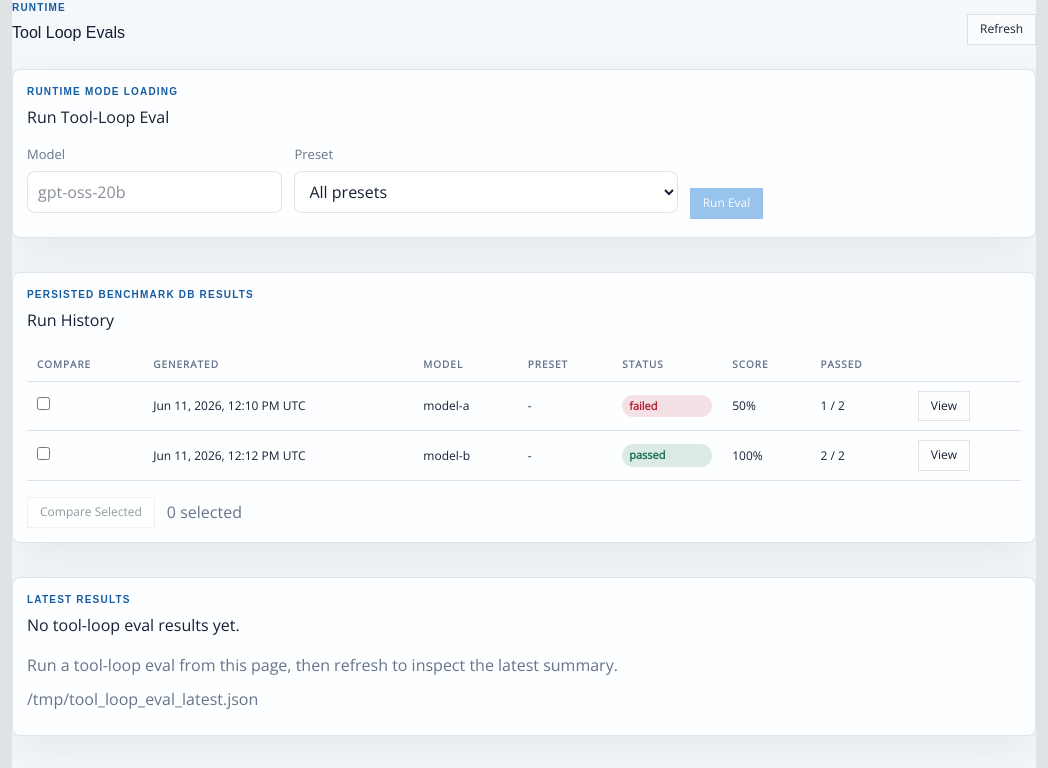
Test: compares selected persisted runs
What coordinates should you click on to do the following:
click the checkbox named "Compare model-a"
I would click on:
 (44, 403)
Its box is [37,397,50,410].
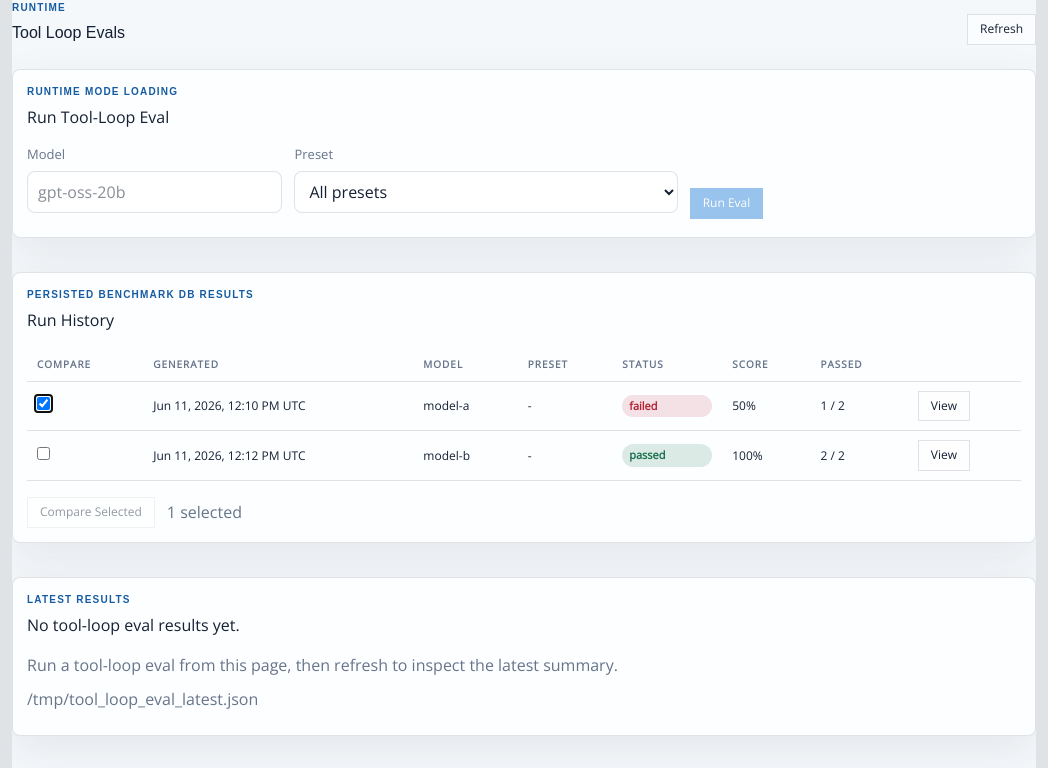
What coordinates should you click on to do the following:
click the checkbox named "Compare model-b"
I would click on:
 (44, 453)
Its box is [37,447,50,460].
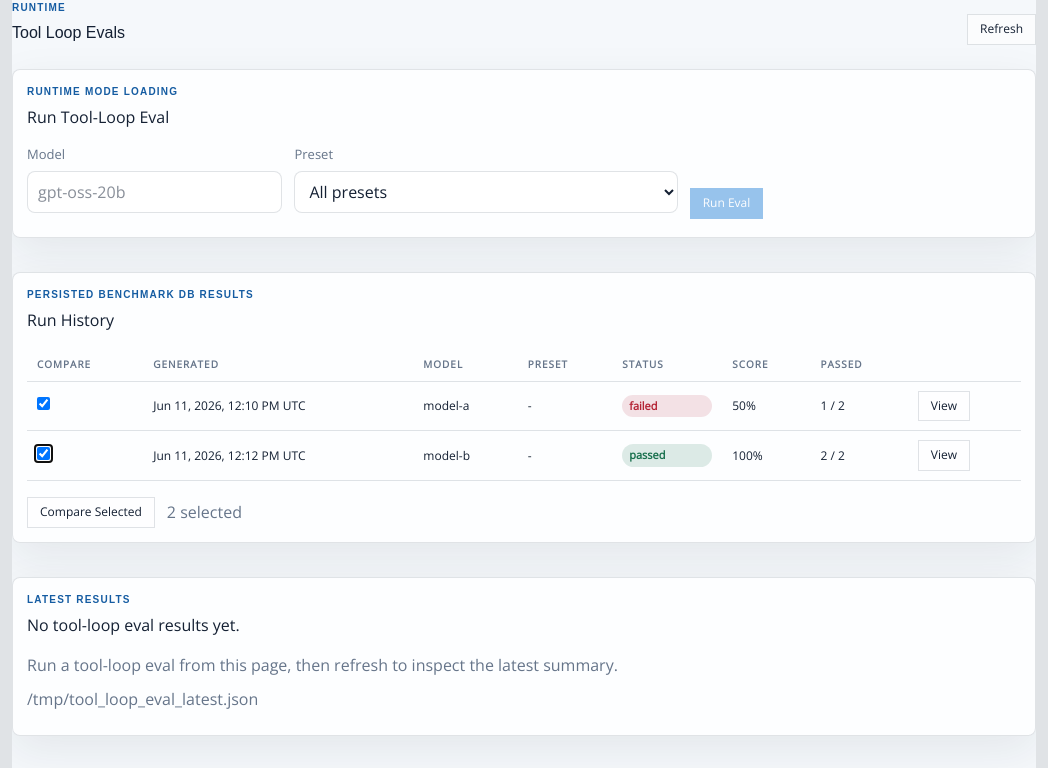
What coordinates should you click on to do the following:
click the button "Compare Selected"
I would click on:
 (91, 512)
Its box is [27,497,155,528].
(page scrolled)
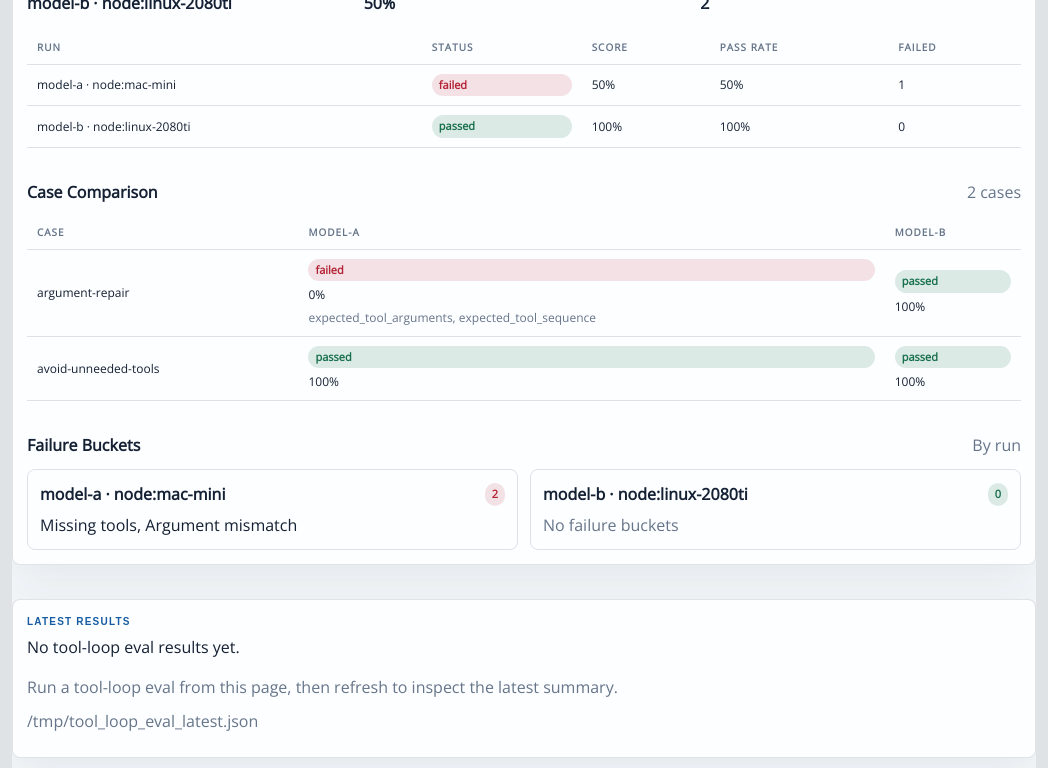
Now the text "argument-repair" is shown, box [27,249,298,336]
Now the text "expected_tool_arguments, expected_tool_sequence" is shown, box [308,309,596,326]
Now the text "Missing tools, Argument mismatch" is shown, box [40,514,297,536]
